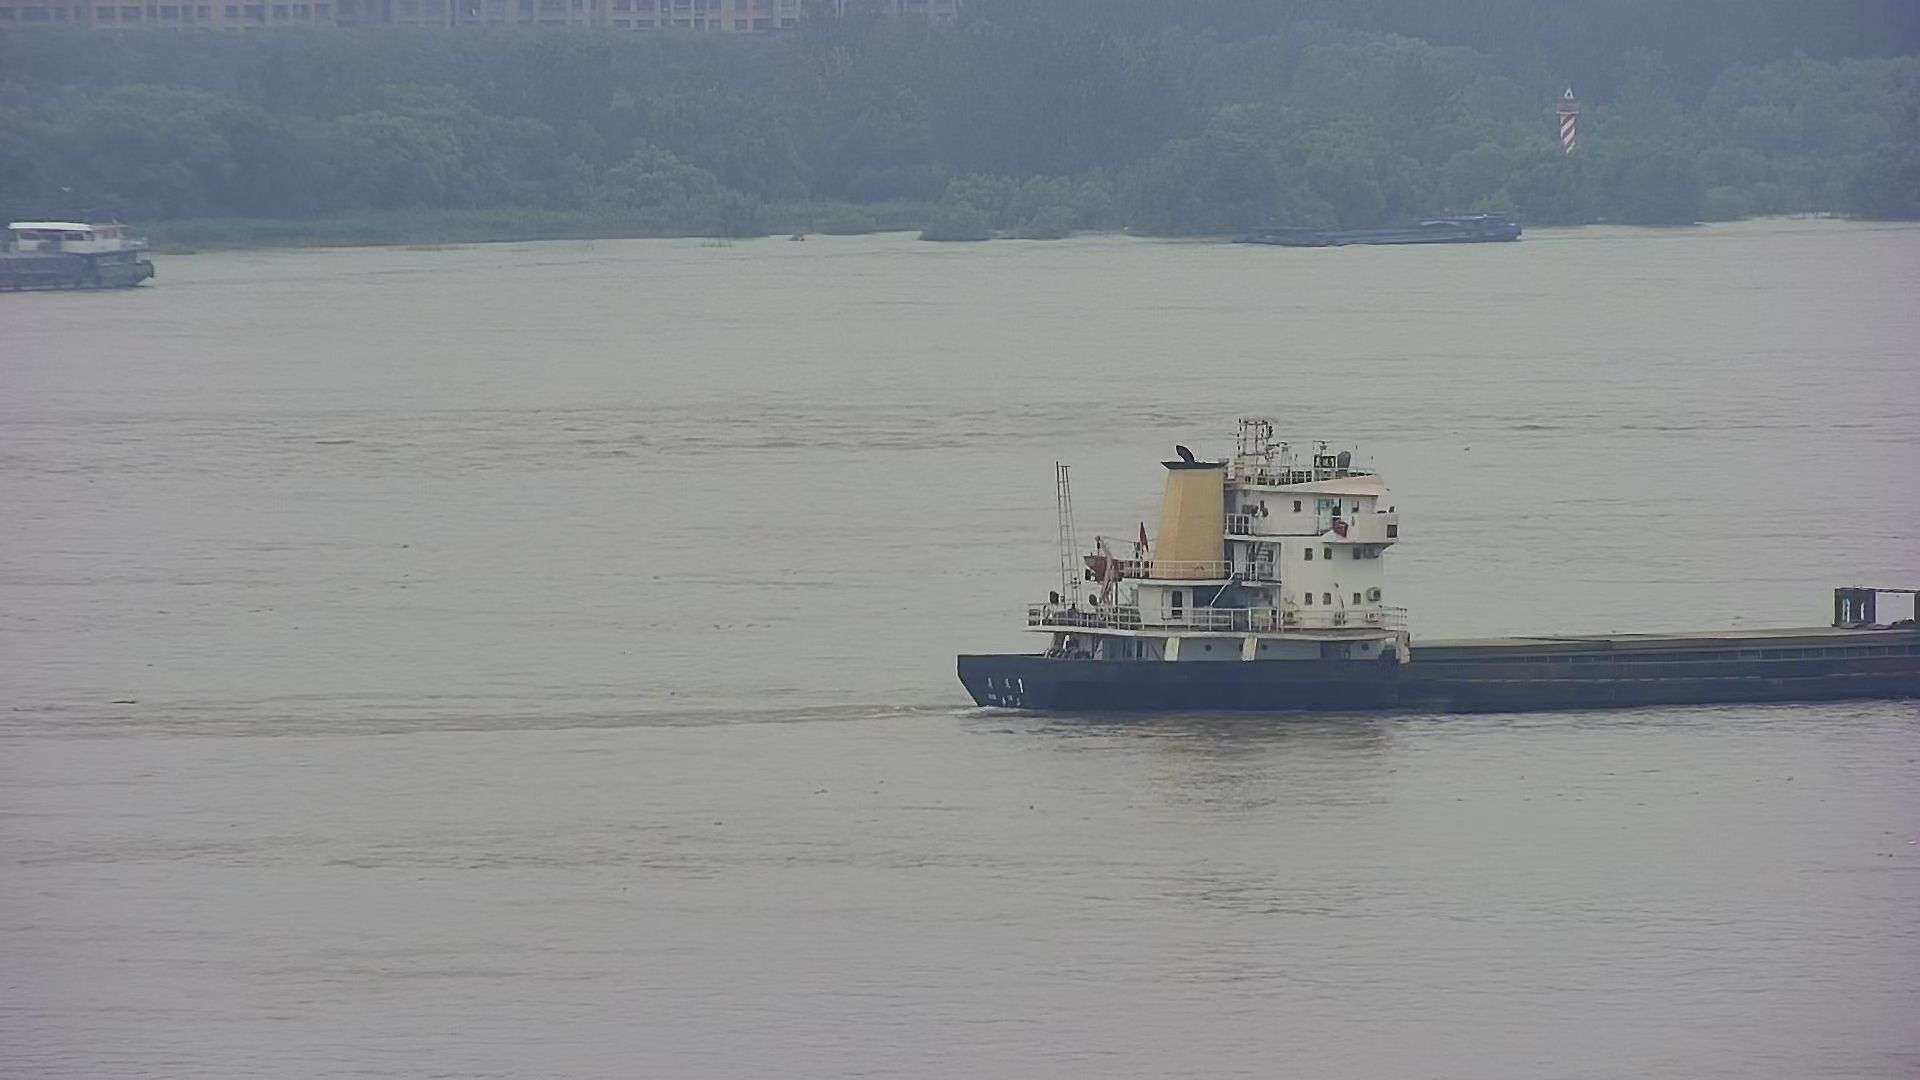boat: (1257, 200, 1530, 258)
ship: (928, 423, 1920, 727), (1, 203, 166, 309)
